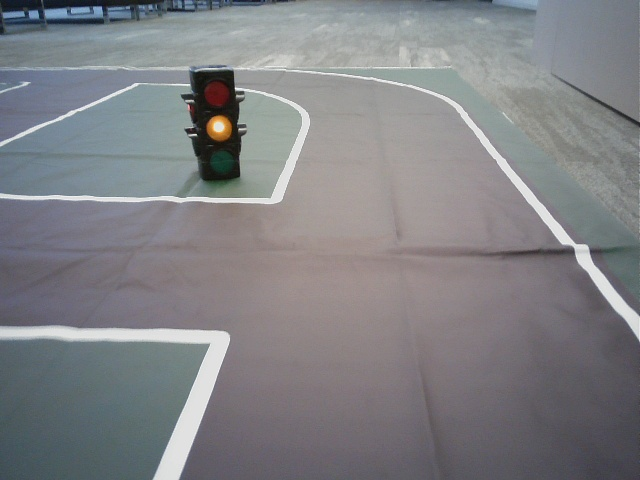yellow: (195, 73, 237, 178)
